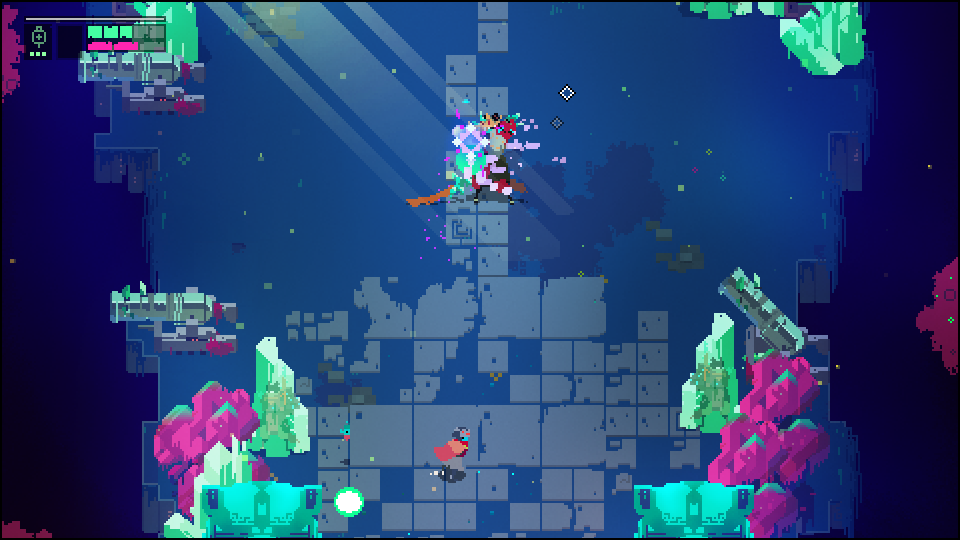hanged_man: (452, 112, 529, 206)
hanged_shot: (334, 484, 364, 518)
player: (431, 427, 471, 473)
